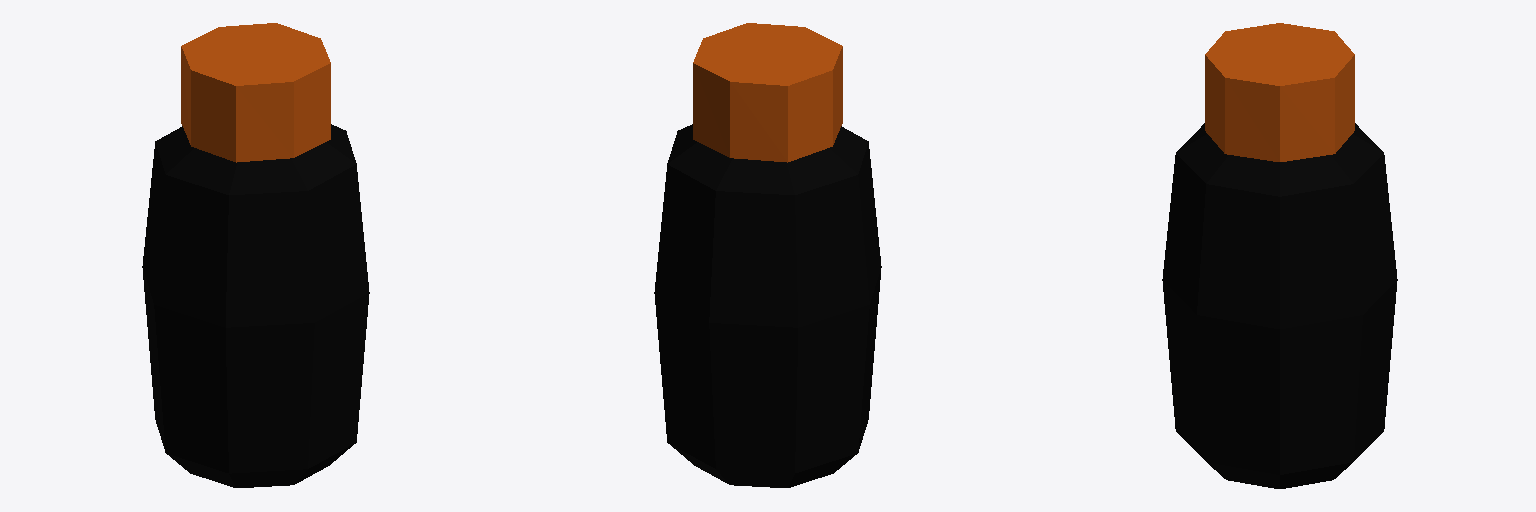
Rendered from potion.obj.
3 renders of one model, left to right at view 1: azimuth 30°, elevation 25°; view 2: azimuth 150°, elevation 25°; view 3: azimuth 270°, elevation 25°, orthographic.
Parts seen in each view (by area): view 1: Cylinder; view 2: Cylinder; view 3: Cylinder.
Part boxes in pixels (bbox=[...]): Cylinder: bbox=[142, 23, 369, 487]; Cylinder: bbox=[654, 23, 881, 487]; Cylinder: bbox=[1162, 23, 1397, 488].
Bounding box in the file's own units: 0.9133 × 1.73 × 0.9133.